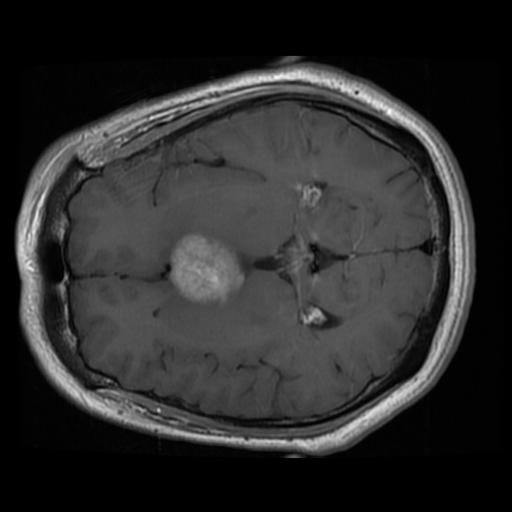pituitary tumour: (169, 236, 241, 304)
